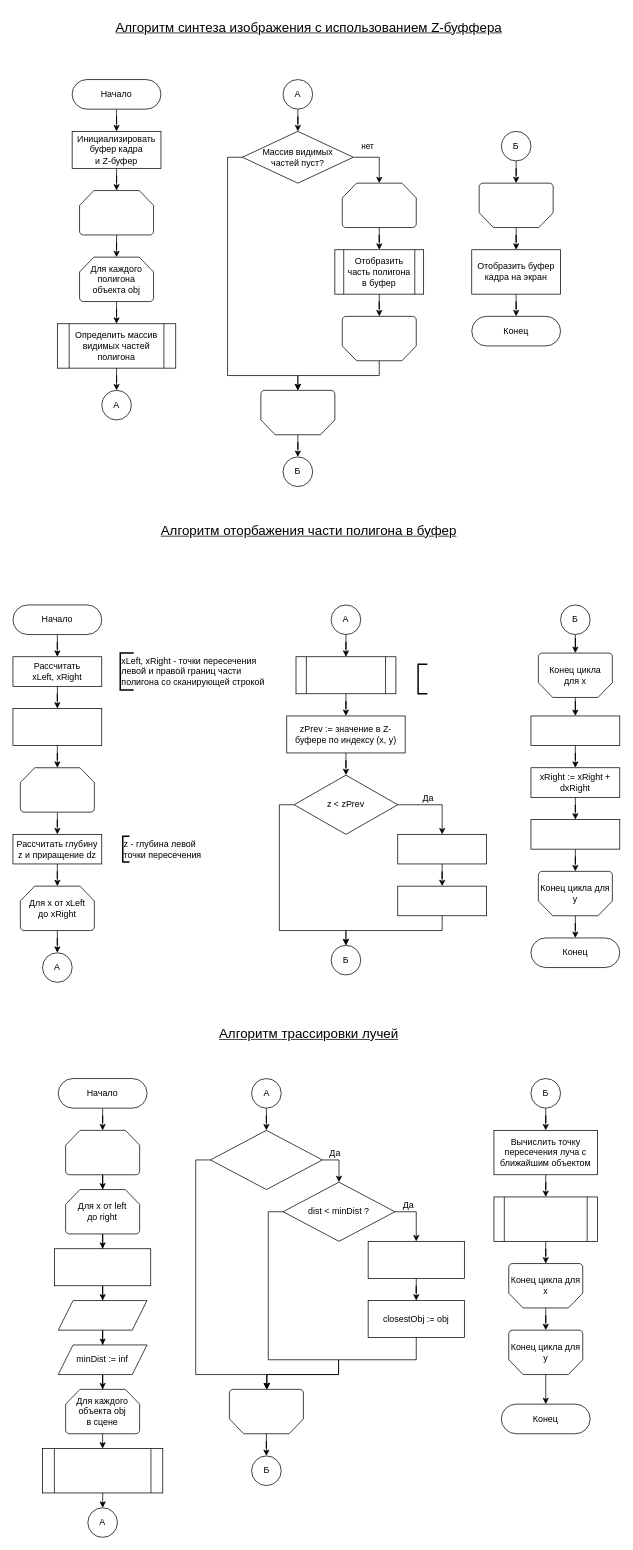
This 633x1550 diagram has some shape labels left out. The shapes that lost their labels are listed below. From the top down, each one's centre as x and y in pixels, then its label:
the point at 116,212: Для каждого объекта сцены obj
the point at 379,205: Для каждой видимой части полигона
the point at 515,205: Конец цикла для каждого объекта сцены
the point at 379,338: Конец цикла
the point at 297,412: Конец цикла для каждого полигона
the point at 345,675: Рассчитать color(x, y)
the point at 422,678: color(x, y) - цвет точки полигона (x, y)
the point at 57,727: Рассчитать приращения dxLeft, dxRight
the point at 575,730: xLeft := xLeft + dxLeft
the point at 57,789: Для y от yStart до yEnd
the point at 442,849: Буфер кадра (x, y) := color
the point at 575,834: z := z + dz
the point at 442,900: Z-буфер (x, y) := z
the point at 102,1152: Для y от top до bottom
the point at 266,1160: Луч пересекает объект?
the point at 545,1218: Рассчитать значение интенсивности в точке пересечения
the point at 102,1267: Вычислить позицию и направление луча
the point at 415,1259: minDist := dist
the point at 102,1315: closestObj := null
the point at 266,1411: Конец цикла для каждого объекта в сцене
the point at 102,1470: Вычислить параметры пересечения луча с объектом obj
